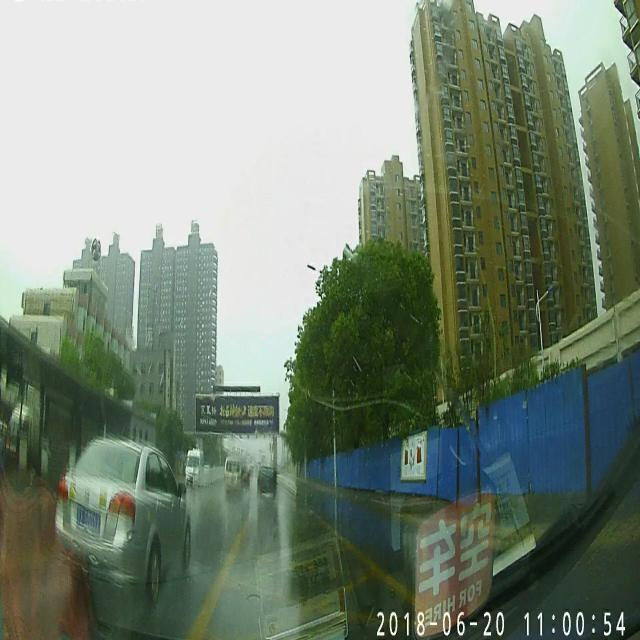car: (52, 436, 188, 598), (222, 454, 242, 489), (186, 448, 203, 488), (256, 468, 279, 491)
